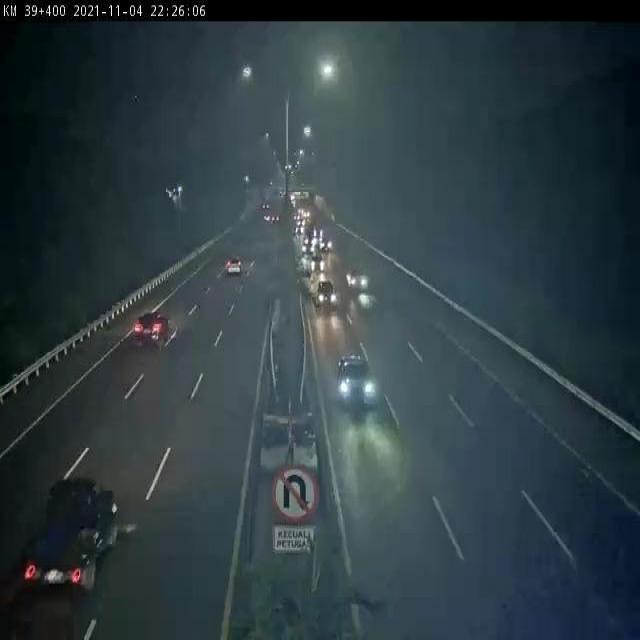car: (338, 356, 381, 427), (129, 291, 173, 360), (213, 245, 248, 288), (343, 264, 376, 300), (314, 277, 343, 312)
truck-s-: (16, 469, 131, 620)
